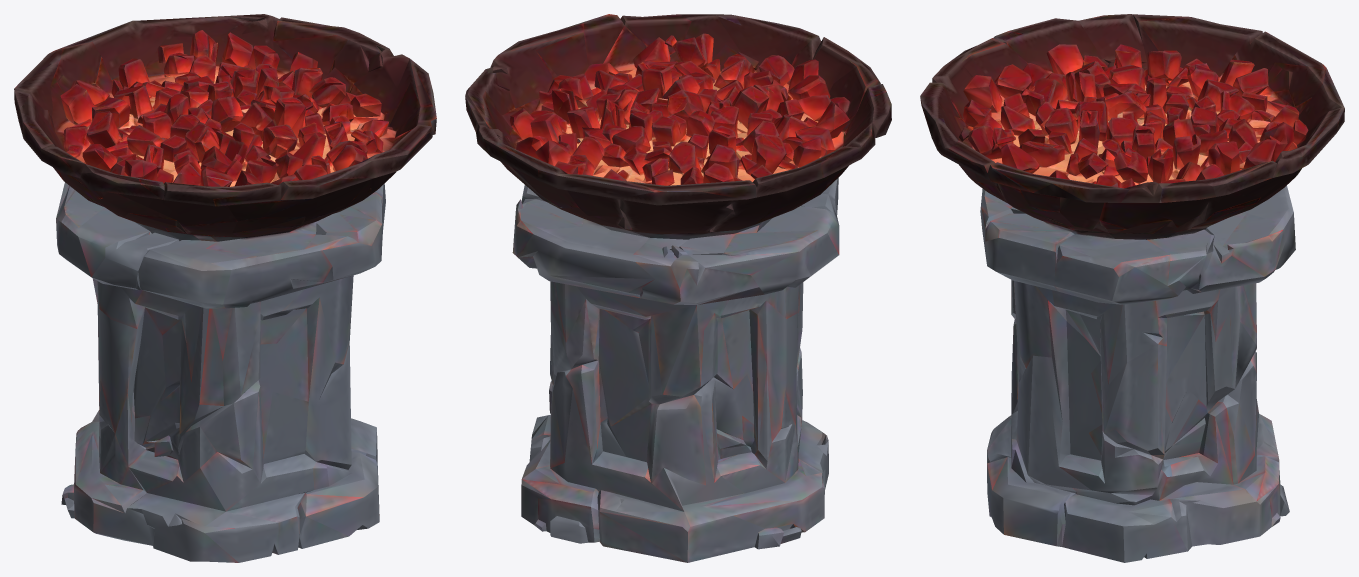
File: brazier.glb
3 renders of one model, left to right at view 1: azimuth 30°, elevation 25°; view 2: azimuth 150°, elevation 25°; view 3: azimuth 270°, elevation 25°, orthographic.
Size of the model in its own units: 1.81 by 1.9 by 1.84.
1 material, 1 textured.
